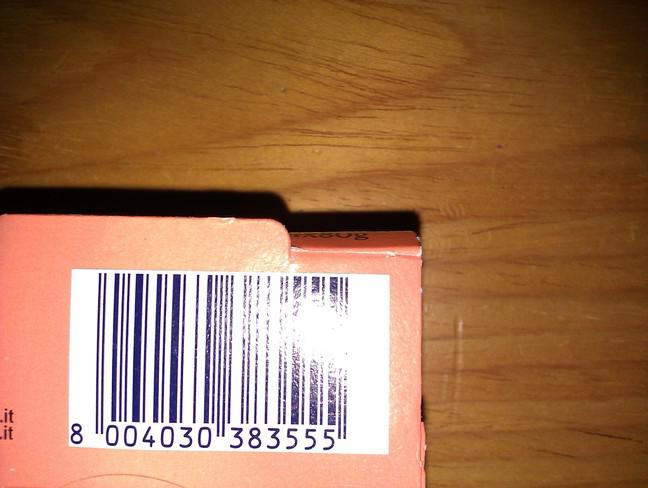Barkod: (69, 270, 385, 451)
